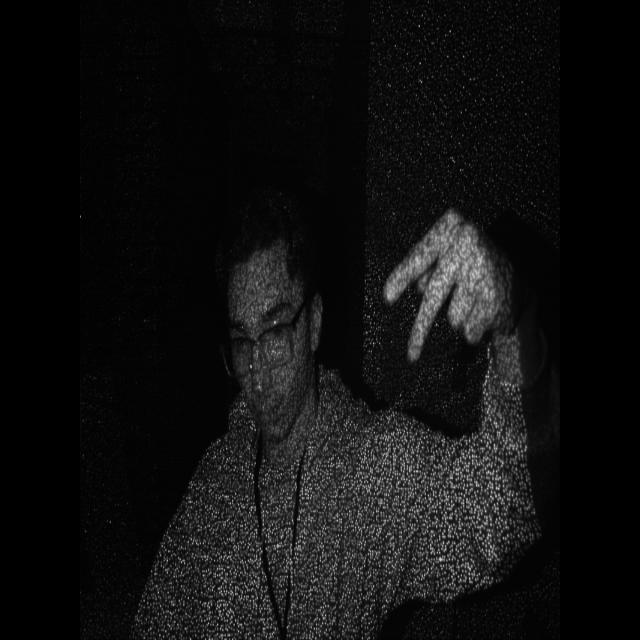P: (380, 207, 503, 383)
